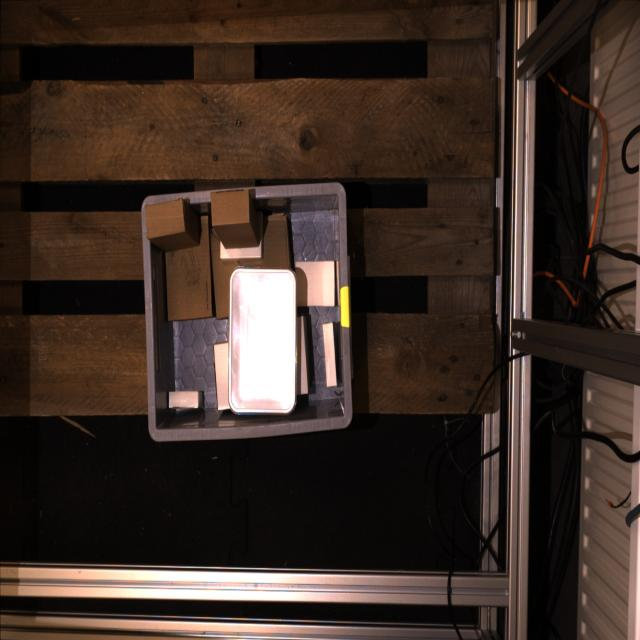CardboardBox: (211, 215, 291, 319), (165, 216, 212, 322), (211, 189, 259, 249), (146, 198, 199, 252), (295, 261, 334, 306), (296, 317, 310, 396), (214, 343, 230, 410), (322, 322, 337, 388), (221, 242, 261, 259), (170, 391, 204, 408)
PlasticContainer: (228, 265, 298, 416)
